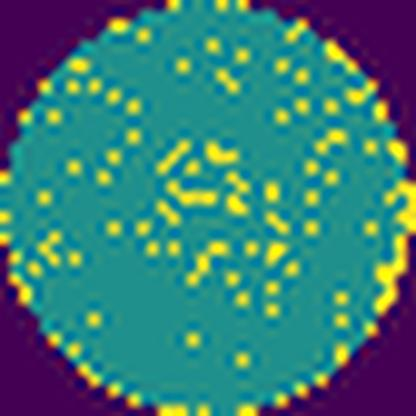Edge-Loc: (363, 175, 415, 317)
